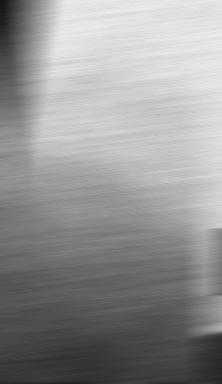Airbag: (0, 0, 222, 384), (206, 0, 222, 383)
